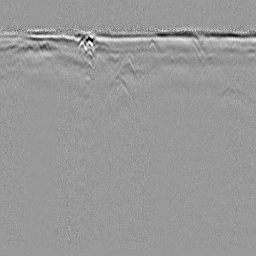cavity: (117, 57, 136, 77)
